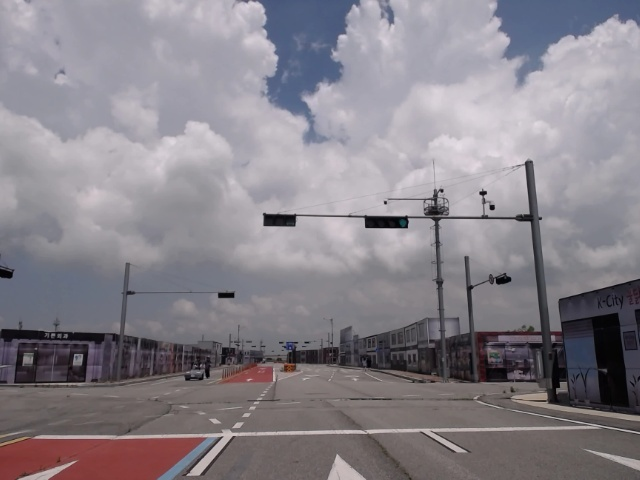straight_green_4: (365, 219, 409, 227)
